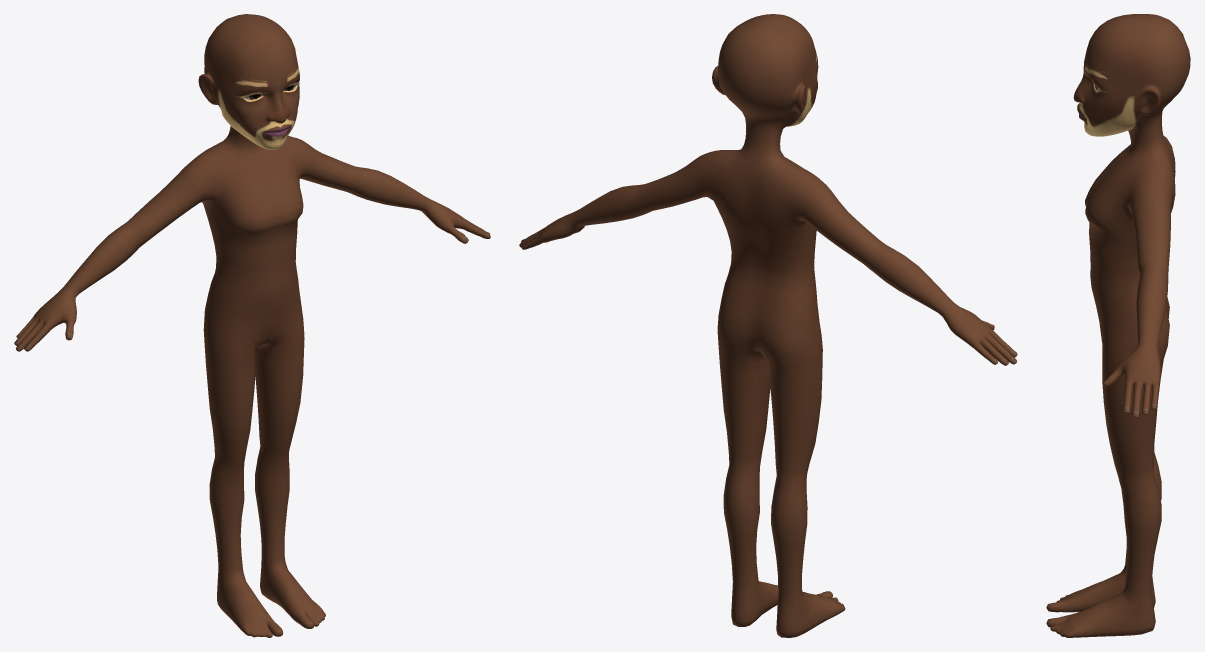
The model's file is frame_0027.glb.
3 renders of one model, left to right at view 1: azimuth 30°, elevation 25°; view 2: azimuth 150°, elevation 25°; view 3: azimuth 270°, elevation 25°, orthographic. The views are drawn at different scales.
Visible parts, largest first — view 1: frame_0027_head_geo; view 2: frame_0027_head_geo; view 3: frame_0027_head_geo.
Boxes of the visible parts, x1,y1,x2,y2 form: frame_0027_head_geo: (14, 14, 490, 637); frame_0027_head_geo: (519, 14, 1017, 637); frame_0027_head_geo: (1046, 14, 1190, 637).
Size of the model in its own units: 1.28 by 1.5 by 0.3253.
3 materials, 3 textured.
